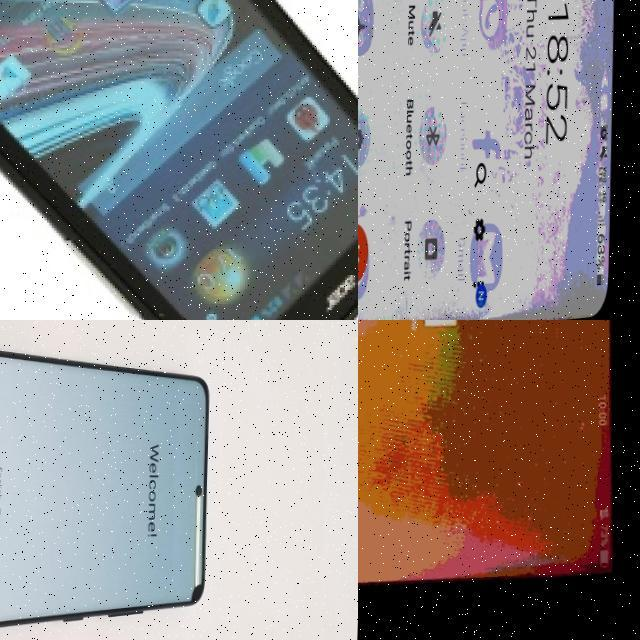dead pixel: (178, 560, 222, 618)
